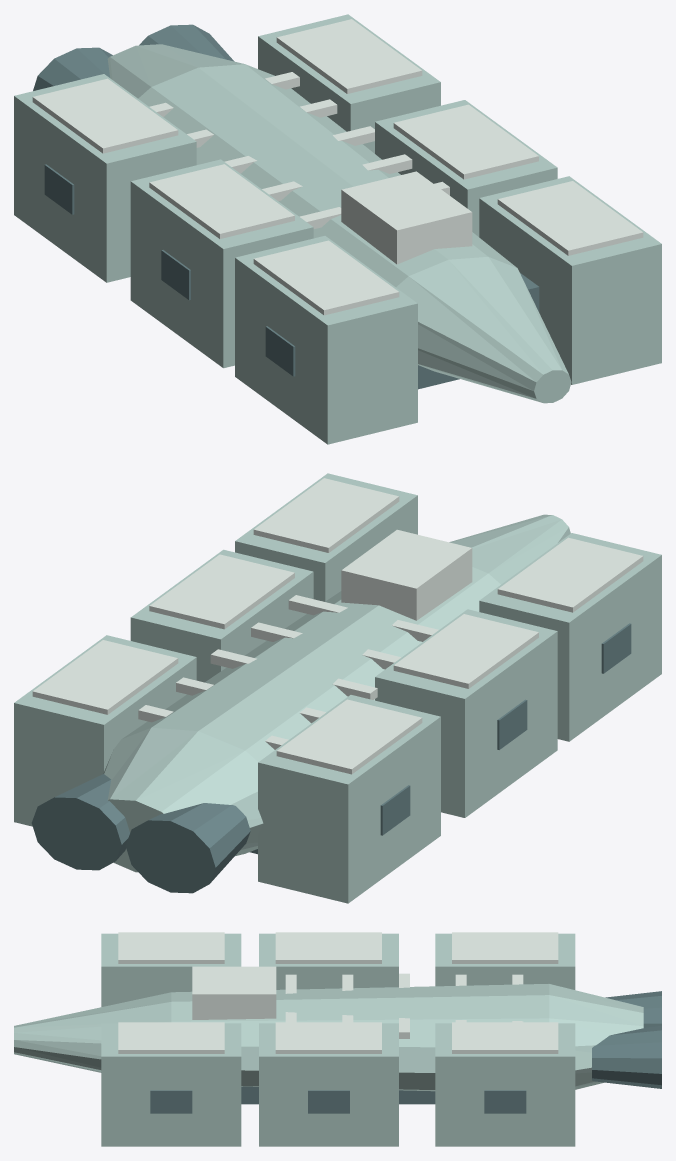
3 renders of one model, top to bottom at view 1: azimuth 30°, elevation 25°; view 2: azimuth 150°, elevation 25°; view 3: azimuth 270°, elevation 25°, orthographic. The views are drawn at different scales.
Size of the model in its own units: 4.46 by 1.75 by 9.82.
